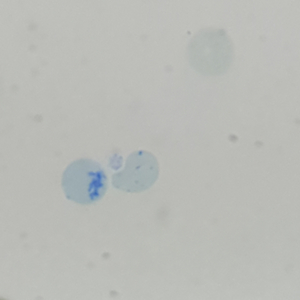aggregate reticulocyte: (59, 156, 110, 206)
erythrocyte: (184, 26, 237, 78)
punctate reticulocyte: (109, 148, 161, 195)
